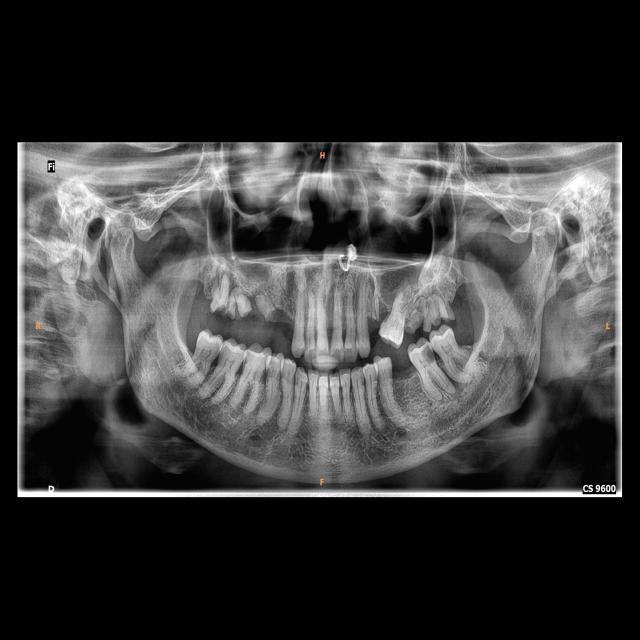dentin-curugu: (422, 344, 436, 367), (256, 367, 268, 386)
kirik: (420, 306, 455, 334), (210, 296, 241, 321), (404, 314, 422, 337), (238, 302, 255, 322), (261, 304, 278, 324)
